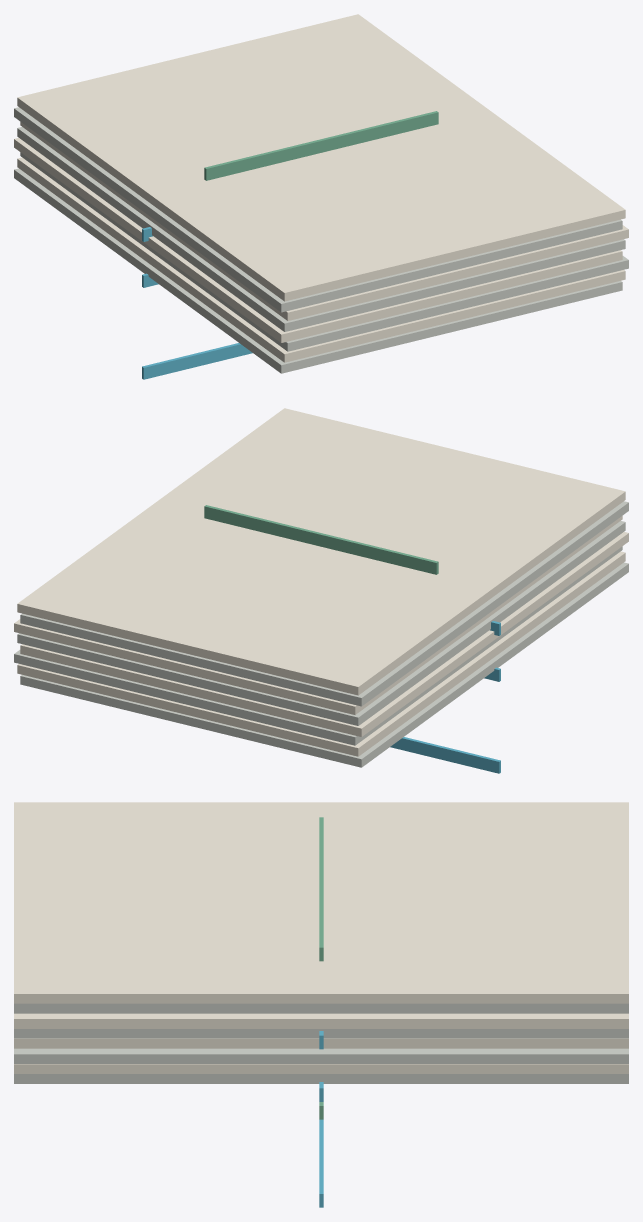
The model's file is officePaperStack.glb.
3 renders of one model, top to bottom at view 1: azimuth 30°, elevation 25°; view 2: azimuth 150°, elevation 25°; view 3: azimuth 270°, elevation 25°, orthographic. The views are drawn at different scales.
Size of the model in its own units: 0.22 by 0.115 by 0.285.
